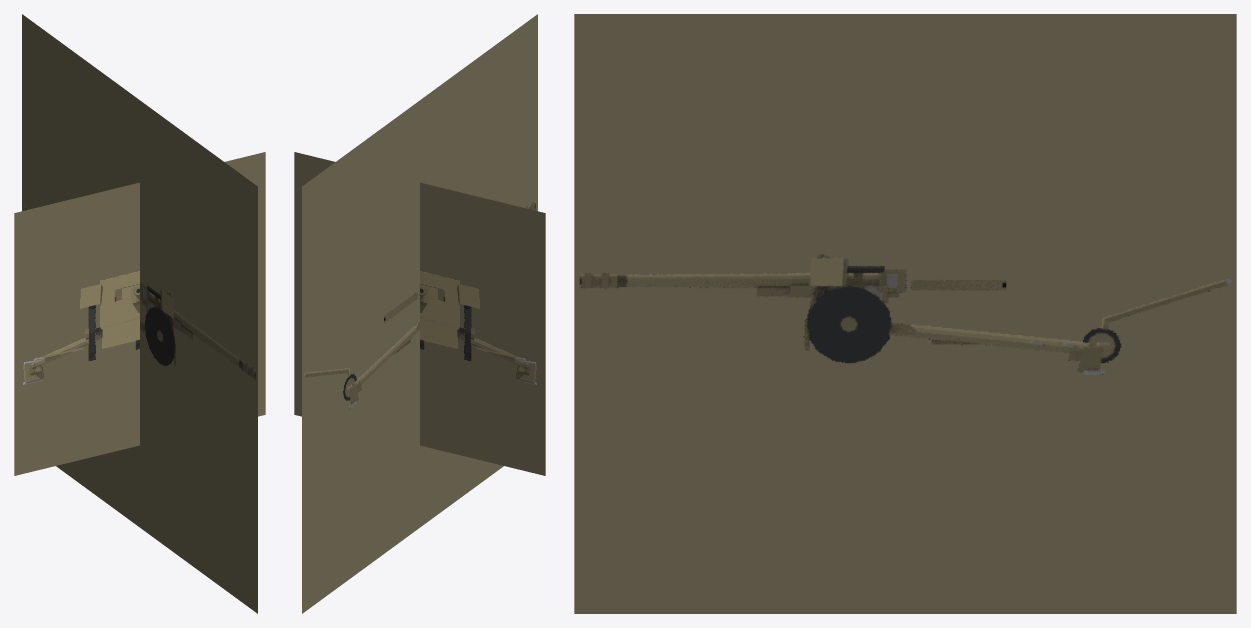
The model's file is pak40_pjas_web_mobil_bb.glb.
3 renders of one model, left to right at view 1: azimuth 30°, elevation 25°; view 2: azimuth 150°, elevation 25°; view 3: azimuth 270°, elevation 25°, orthographic. The views are drawn at different scales.
Parts seen in each view (by area): view 1: pak40_pjas_web_mobil_bb; view 2: pak40_pjas_web_mobil_bb; view 3: pak40_pjas_web_mobil_bb.
Boxes of the visible parts, x1,y1,x2,y2 form: pak40_pjas_web_mobil_bb: (14,14,265,613); pak40_pjas_web_mobil_bb: (294,14,545,613); pak40_pjas_web_mobil_bb: (574,14,1236,613).
Size of the model in its own units: 4.34 by 7.06 by 7.06.
Materials: 1 (1 with a texture image).
